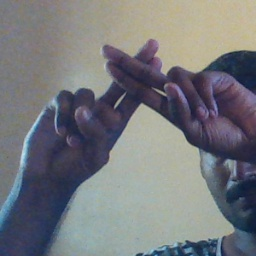F: (68, 36, 214, 148)
